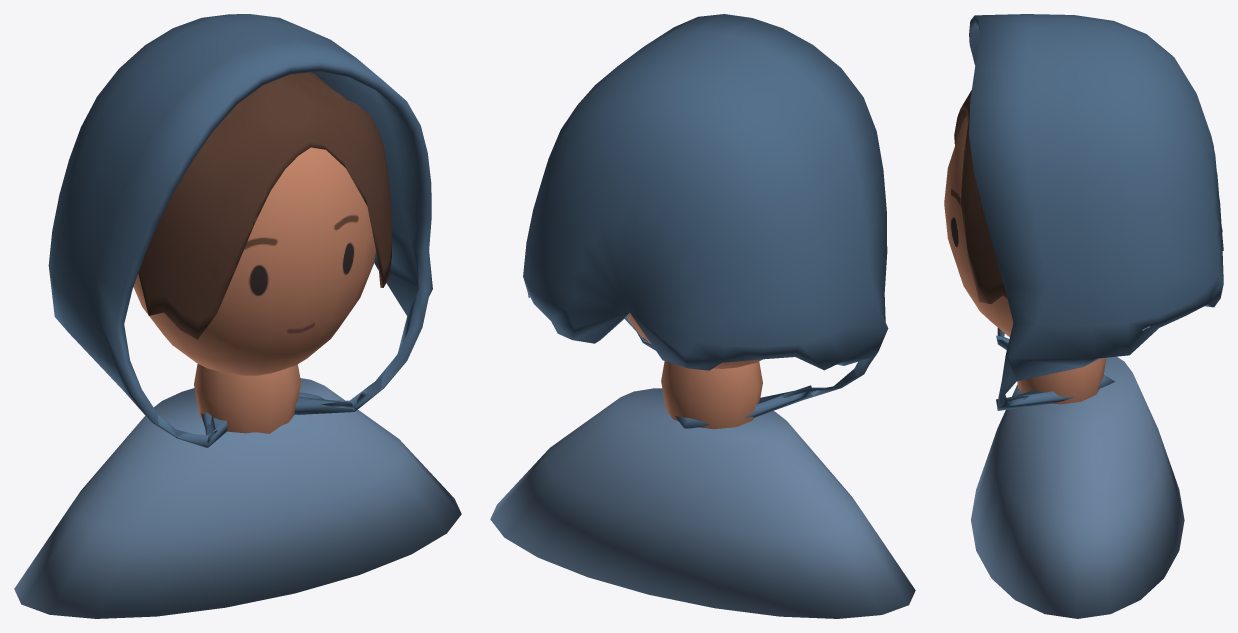
File: traveller_painted_bob.glb
3 views of the same model, side by side, from view 1: azimuth 30°, elevation 25°; view 2: azimuth 150°, elevation 25°; view 3: azimuth 270°, elevation 25° (orthographic). The views are drawn at different scales.
Parts seen in each view (by area): view 1: TravellerBody, Hood, HairCap.Bob, Head, Neck; view 2: Hood, TravellerBody, Neck; view 3: Hood, TravellerBody, HairCap.Bob, Head, Neck.
Boxes of the visible parts, box(x1,y1,x2,y2) form: TravellerBody: box(14, 378, 461, 618); Hood: box(48, 14, 432, 447); HairCap.Bob: box(138, 72, 391, 339); Head: box(133, 147, 375, 375); Neck: box(194, 364, 300, 433); Hood: box(523, 14, 888, 428); TravellerBody: box(490, 388, 915, 618); Neck: box(661, 361, 762, 429); Hood: box(969, 14, 1223, 410); TravellerBody: box(971, 356, 1184, 618); HairCap.Bob: box(954, 90, 1007, 304); Head: box(944, 115, 1013, 336); Neck: box(1017, 357, 1106, 404).
Bounding box in the file's own units: 2.1 × 2.44 × 1.26.
Materials: 2 (2 with a texture image).
